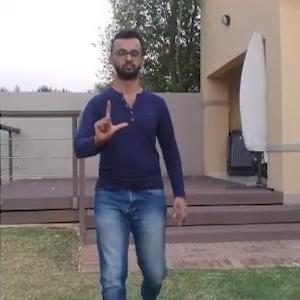land_hand: (91, 94, 136, 150)
